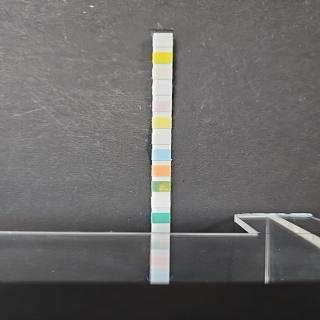mark: (152, 115, 170, 129), (152, 164, 170, 177), (154, 35, 172, 48), (152, 196, 170, 208), (152, 180, 170, 192), (152, 148, 170, 160), (152, 132, 170, 144), (152, 100, 170, 112), (154, 83, 172, 95), (154, 66, 172, 78), (154, 52, 172, 64), (152, 212, 169, 223)
